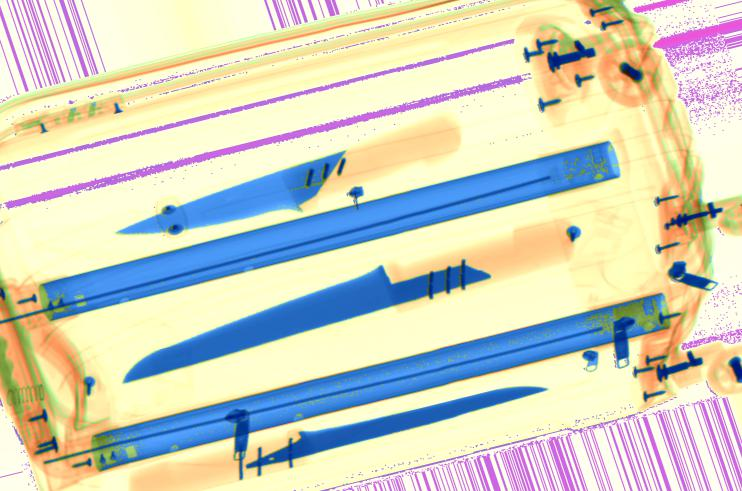Knife: (121, 238, 517, 385), (113, 114, 462, 236), (224, 385, 549, 486)
